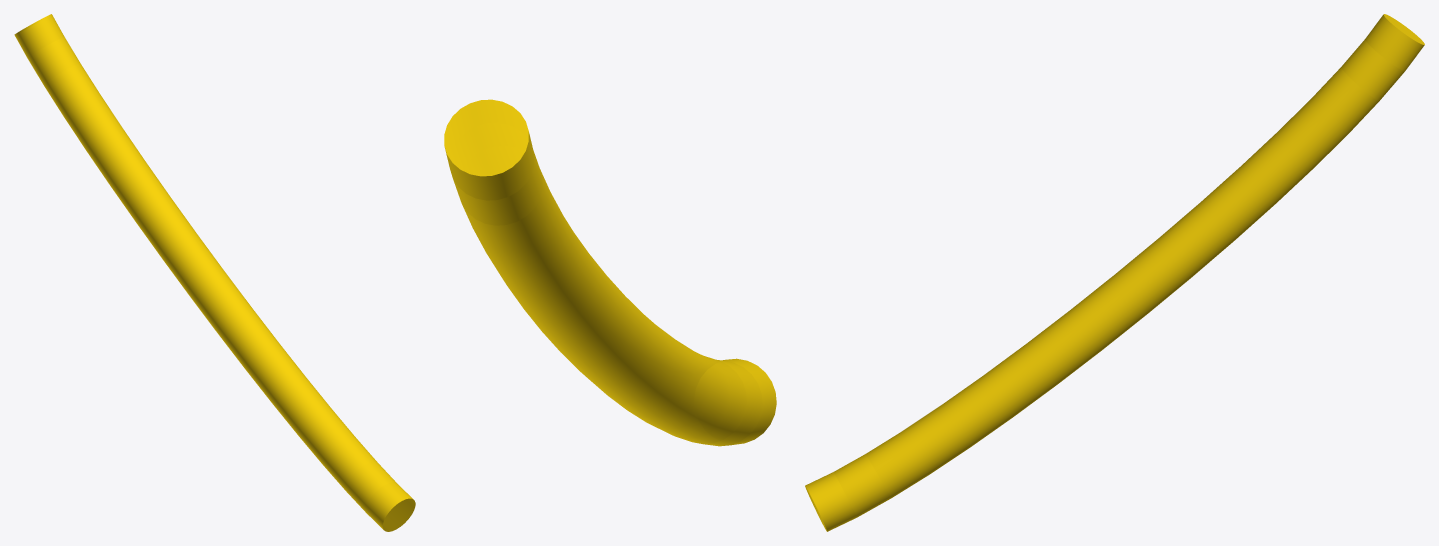
The model's file is Event_420094457_track_33.fbx.
3 views of the same model, side by side, from view 1: azimuth 30°, elevation 25°; view 2: azimuth 150°, elevation 25°; view 3: azimuth 270°, elevation 25° (orthographic). The views are drawn at different scales.
Visible parts, largest first — view 1: Model; view 2: Model; view 3: Model.
Part boxes in pixels (x1=…): Model: x1=14, y1=14, x2=415, y2=531; Model: x1=444, y1=99, x2=776, y2=446; Model: x1=805, y1=14, x2=1424, y2=531.
Size of the model in its own units: 0.169 by 0.3819 by 0.4822.
